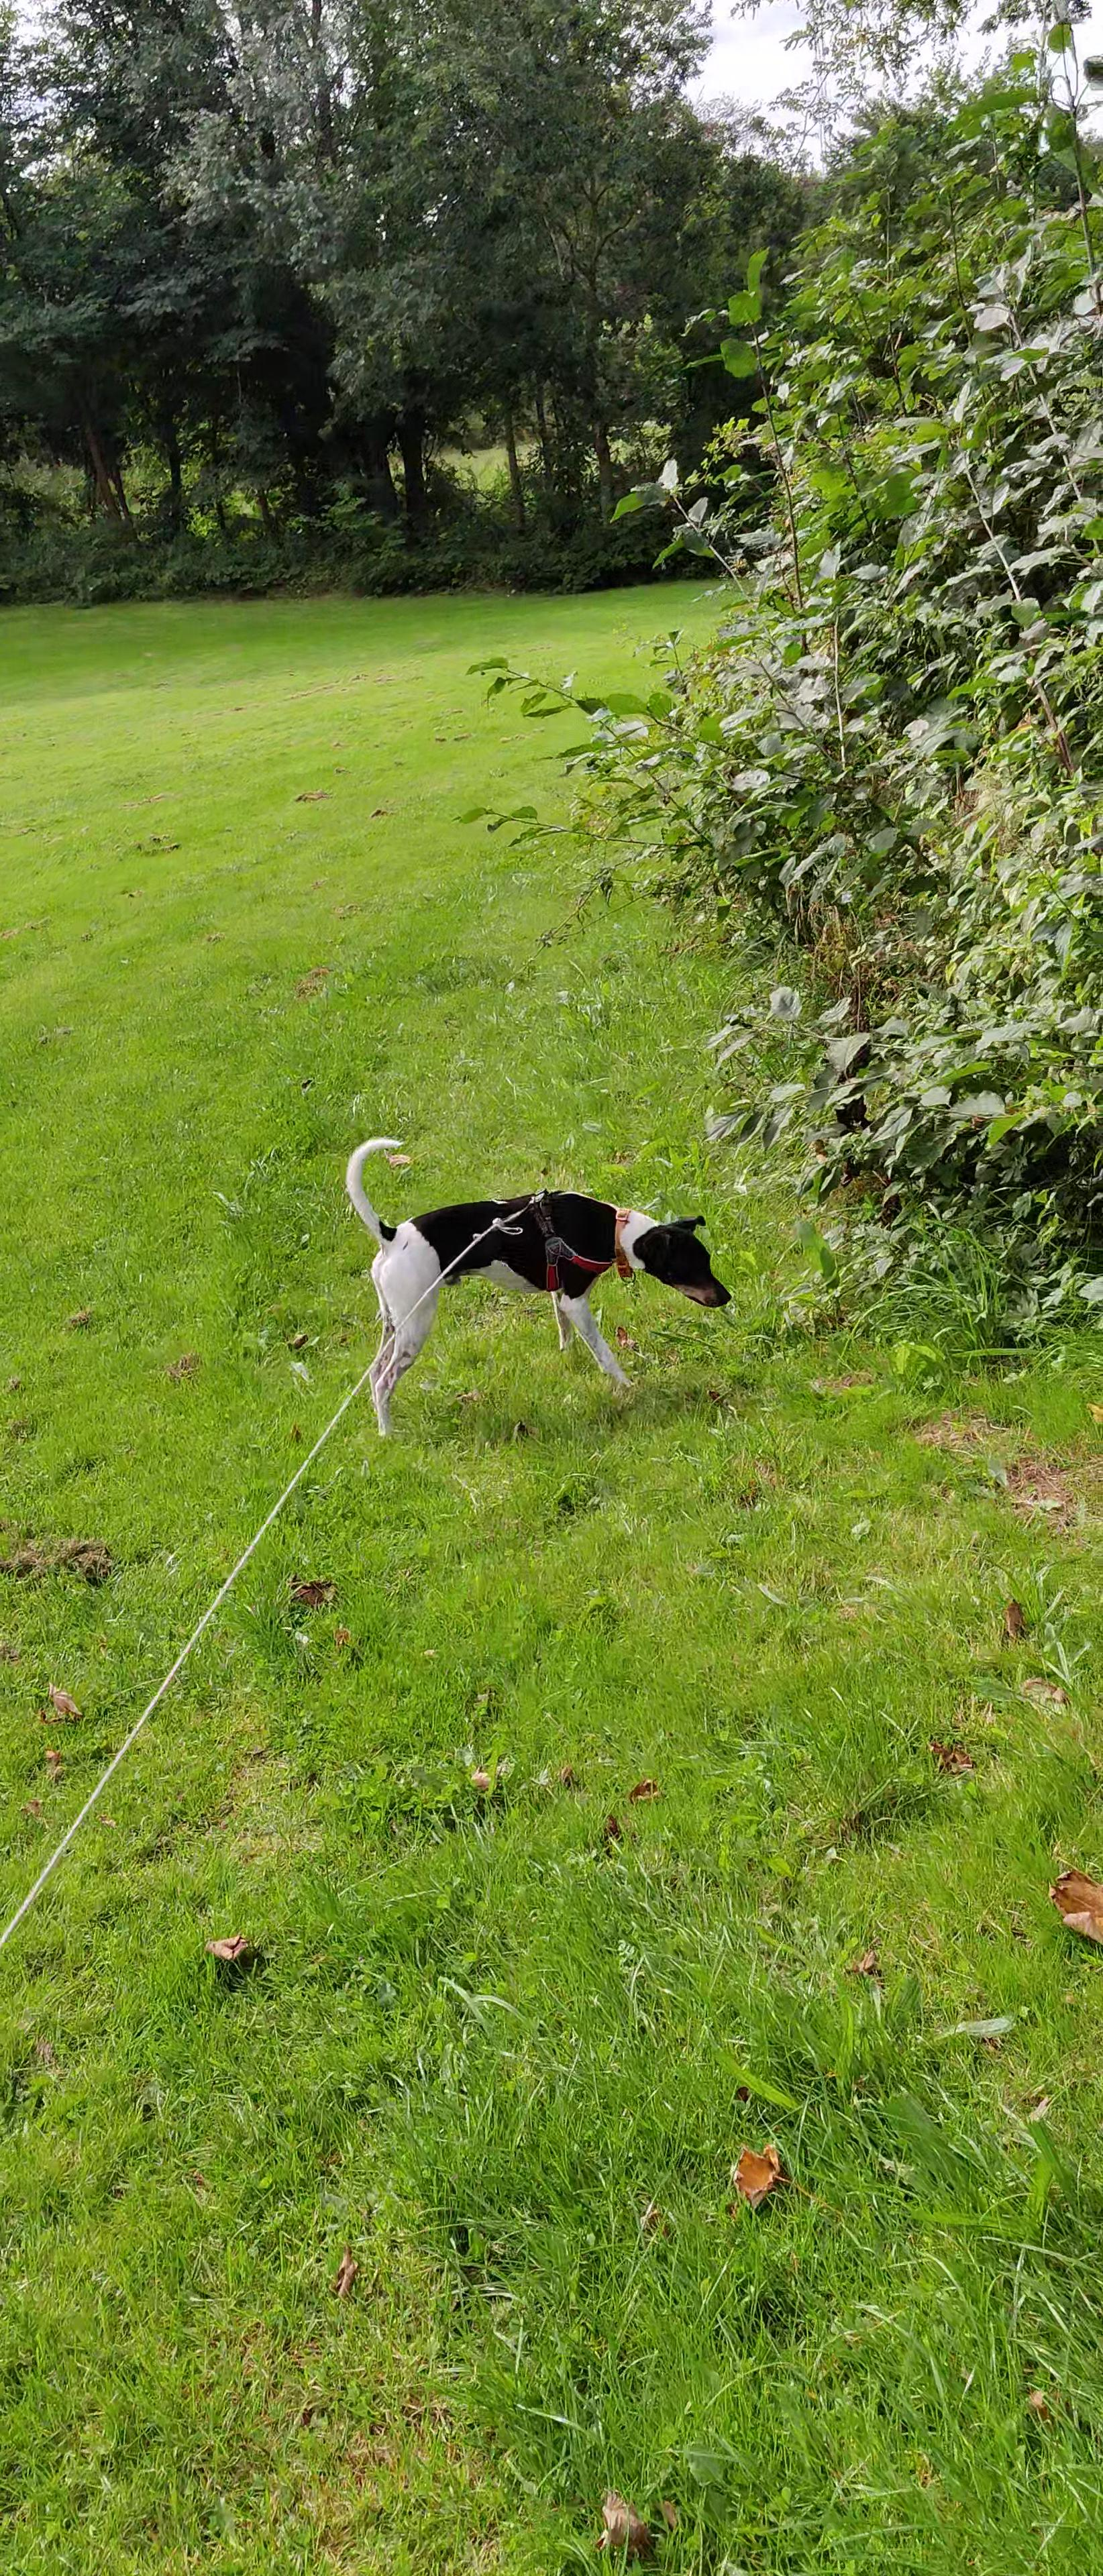Dog: (327, 1122, 743, 1441)
